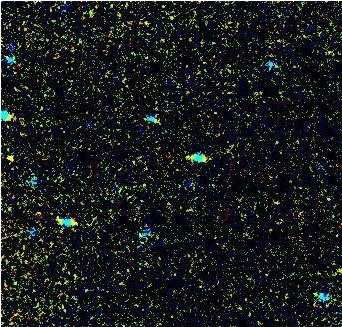star: (0, 143, 22, 173)
